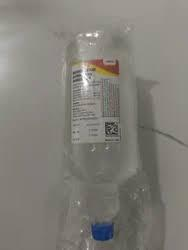Iv_Bottle: (57, 26, 137, 249)
